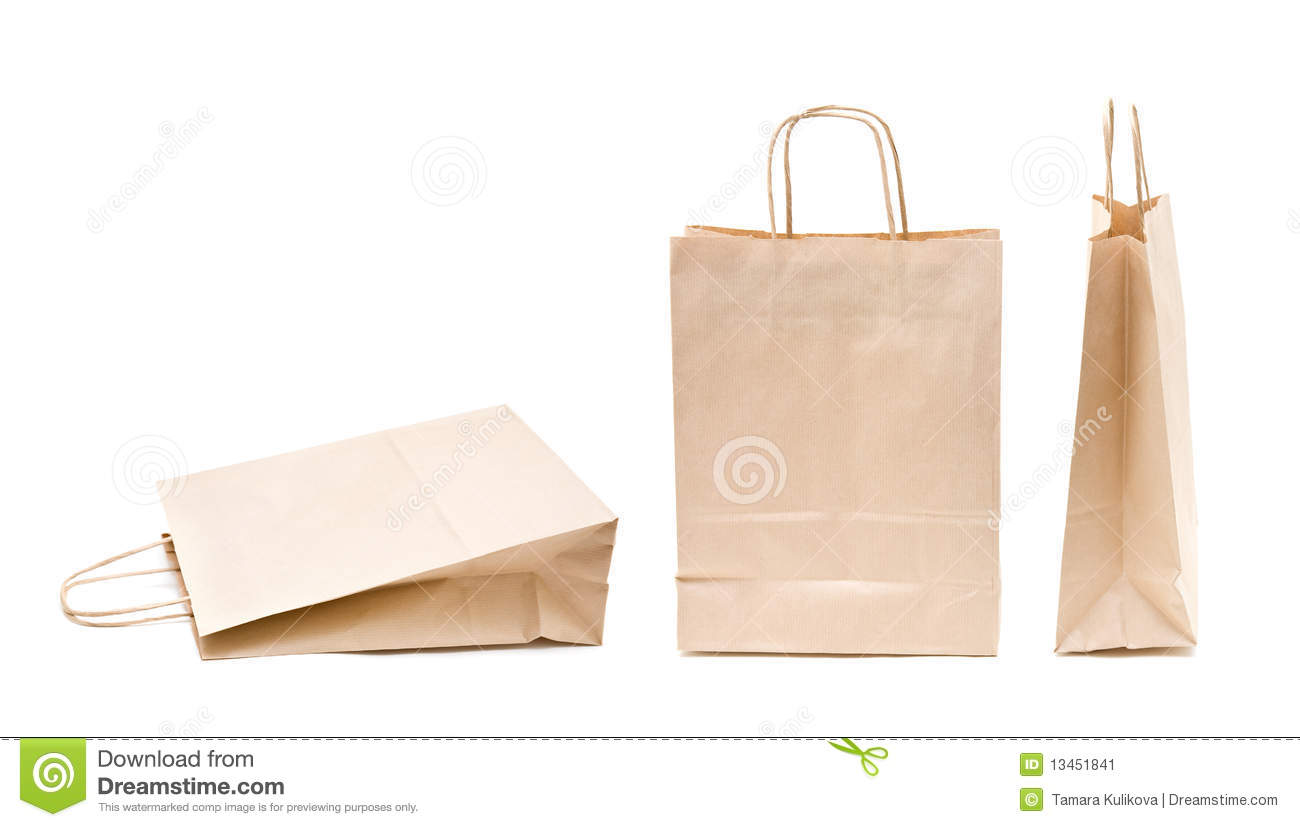flexible: (665, 98, 1011, 659), (63, 403, 626, 668), (1050, 98, 1208, 670)
